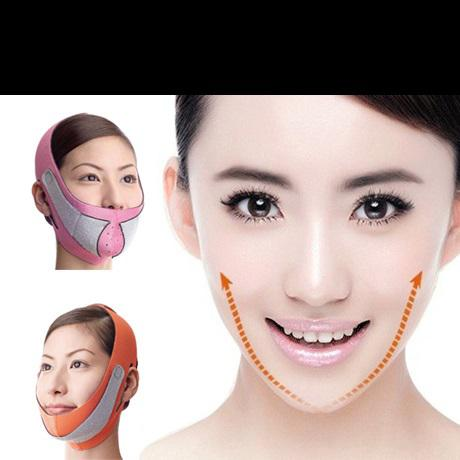NONE: (197, 158, 440, 398), (30, 340, 111, 428)
WRONG: (49, 157, 147, 255)
